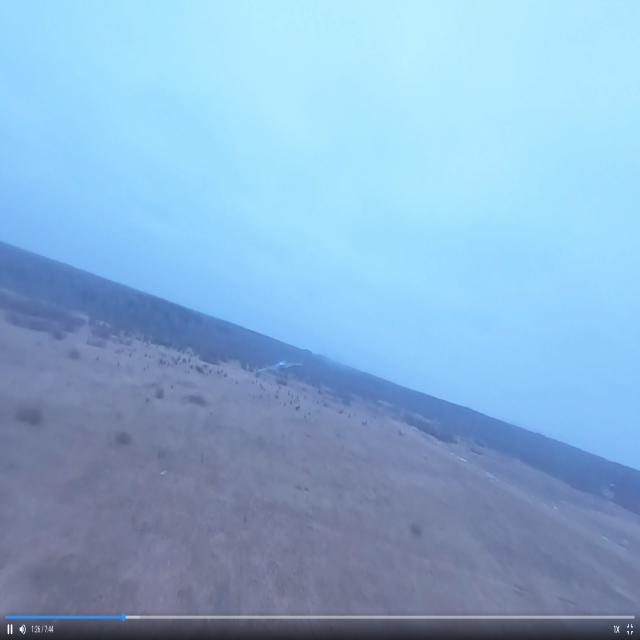planedrone: (253, 352, 306, 377)
